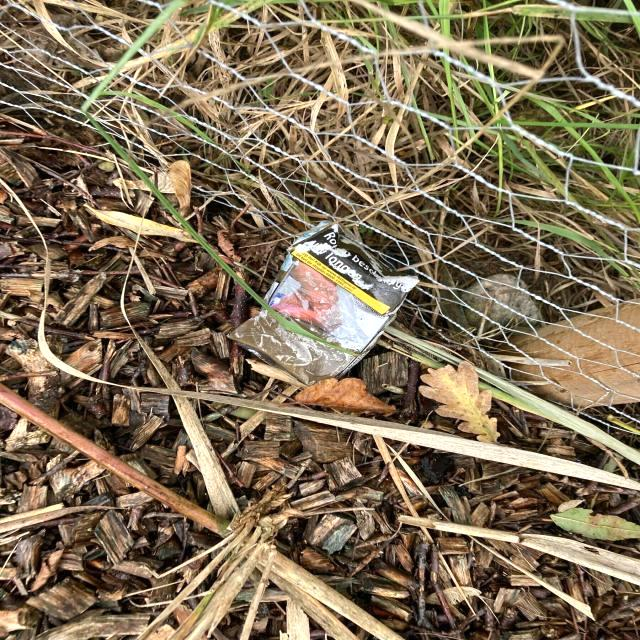Paper: (223, 219, 423, 387)
